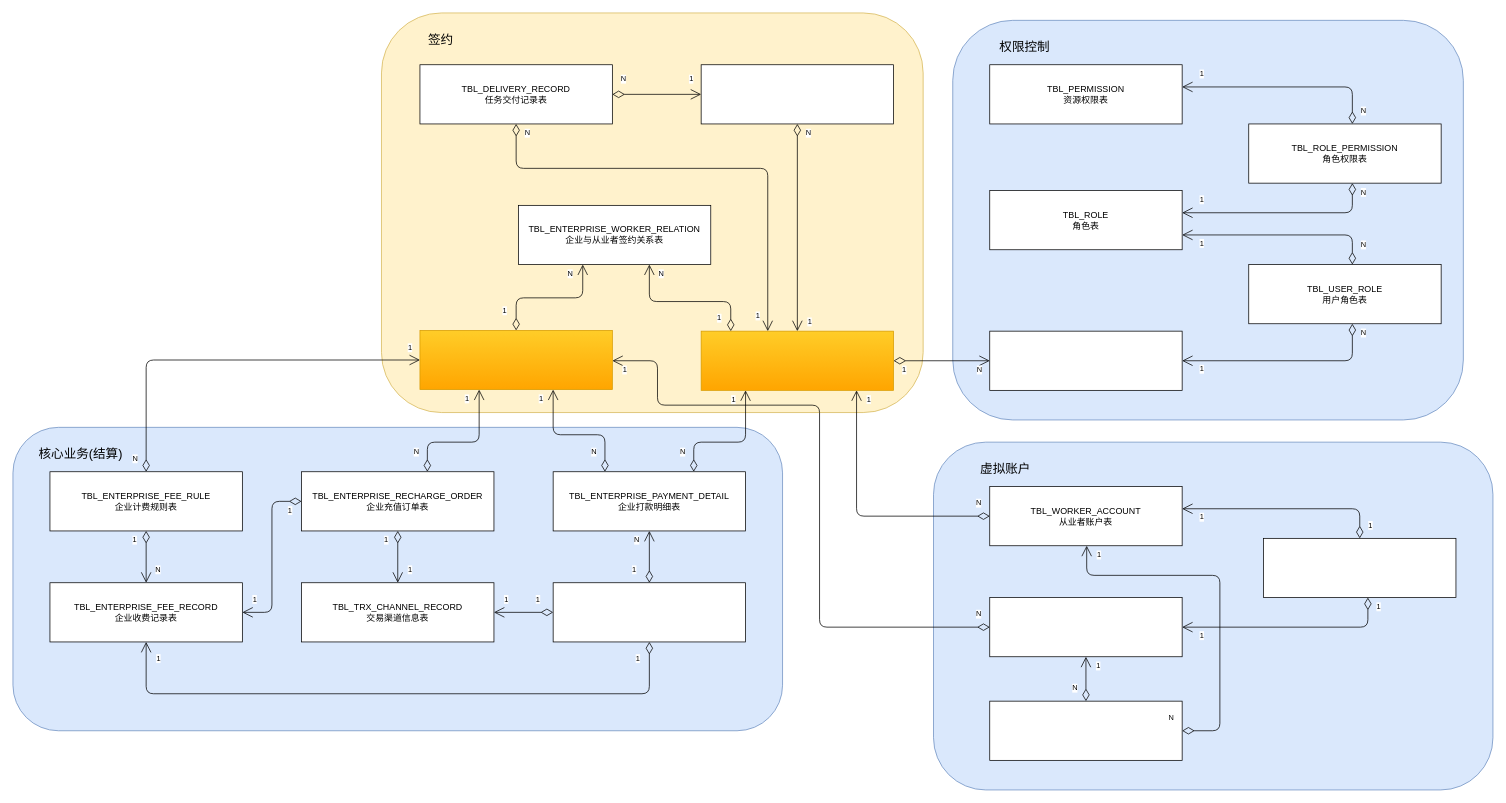
Image size: 1506x803. Some labels were removed from this diagram. Here are the shapes that lost their labels. From the top down, the centre of each, then its label:
(797,94): TBL_JOB 任务表
(515,360): TBL_ENTERPRISE 企业信息表
(797,360): TBL_WORKER 从业者信息表
(1085,360): TBL_USRE 用户表
(1359,568): TBL_ACCOUNT_CTRL 账户控制表
(649,612): TBL_ENTERPRISE_PAYMENT_ORDER 企业打款订单表
(1085,627): TBL_ENTERPRISE_ACCOUNT 企业账户表
(1085,730): TBL_ACCOUNT_TRX_DETAIL 账户变更明细表
